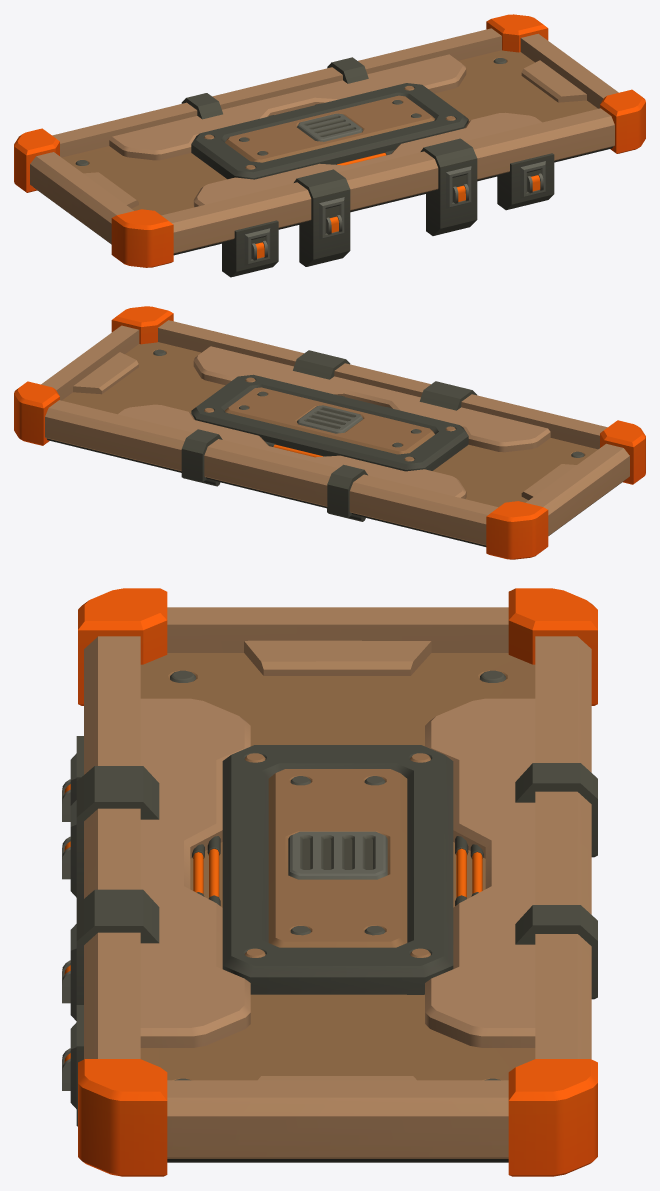
Rendered from Container_02_Cap.fbx.
The picture shows the model from 3 angles, top to bottom: view 1: azimuth 30°, elevation 25°; view 2: azimuth 150°, elevation 25°; view 3: azimuth 270°, elevation 25°; orthographic projection. The views are drawn at different scales.
Visible parts, largest first — view 1: Container_02_Cap; view 2: Container_02_Cap; view 3: Container_02_Cap.
Part boxes in pixels (left/top/right/bottom): Container_02_Cap: left=14, top=14, right=645, bottom=277; Container_02_Cap: left=14, top=306, right=645, bottom=559; Container_02_Cap: left=62, top=588, right=597, bottom=1176.
Size of the model in its own units: 153 by 23.84 by 68.23.
